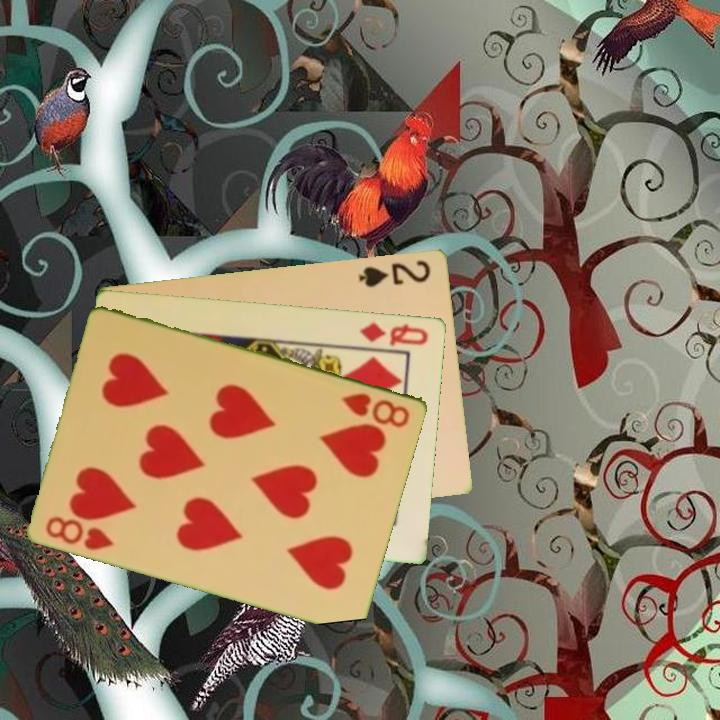2s: (355, 256, 434, 290)
8h: (42, 512, 117, 553), (339, 389, 413, 430)
Qd: (356, 318, 431, 348)
